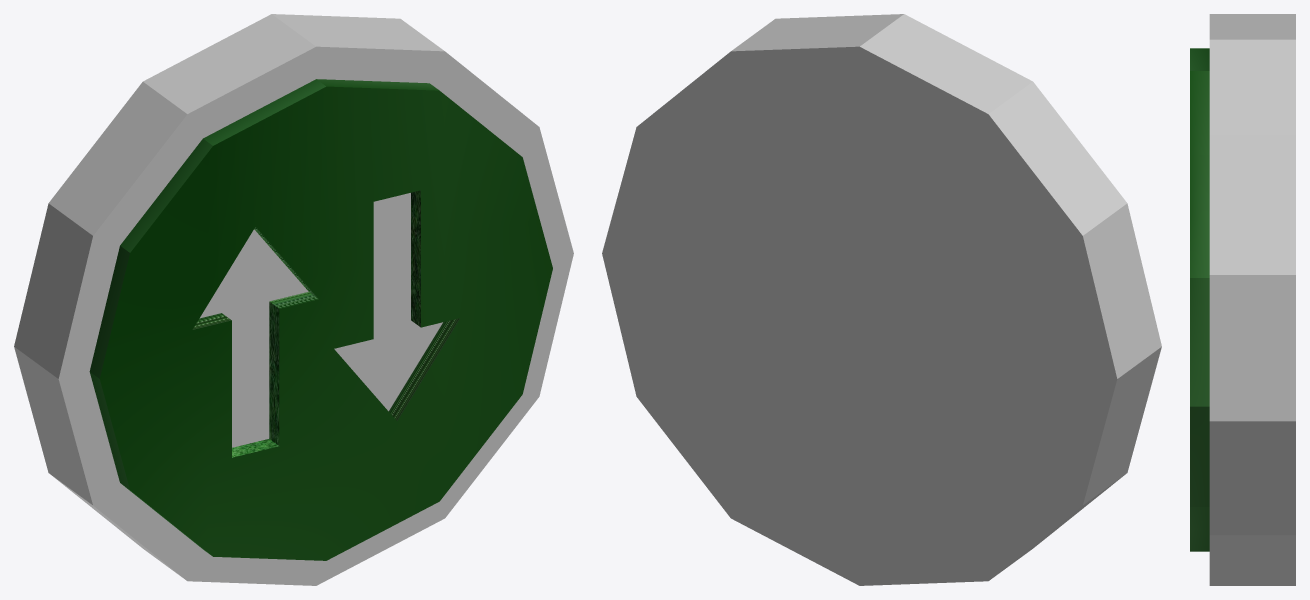
Rendered from TradeButton.fbx.
The picture shows the model from 3 angles, left to right: view 1: azimuth 30°, elevation 25°; view 2: azimuth 150°, elevation 25°; view 3: azimuth 270°, elevation 25°; orthographic projection. The views are drawn at different scales.
Parts seen in each view (by area): view 1: Cylinder.001; view 2: Cylinder.001; view 3: Cylinder.001.
Boxes of the visible parts, left/top/right/bottom form: Cylinder.001: left=14, top=14, right=573, bottom=585; Cylinder.001: left=602, top=14, right=1161, bottom=585; Cylinder.001: left=1190, top=14, right=1295, bottom=585.
Size of the model in its own units: 24.81 by 24.81 by 4.57.
